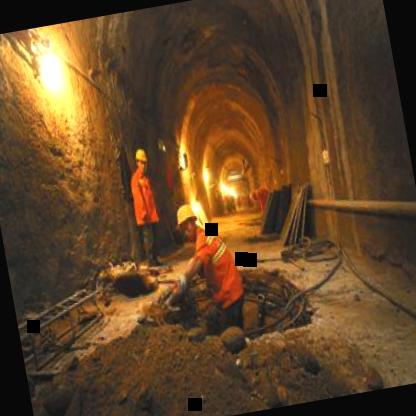helmet: (170, 198, 206, 247), (131, 143, 152, 179)
